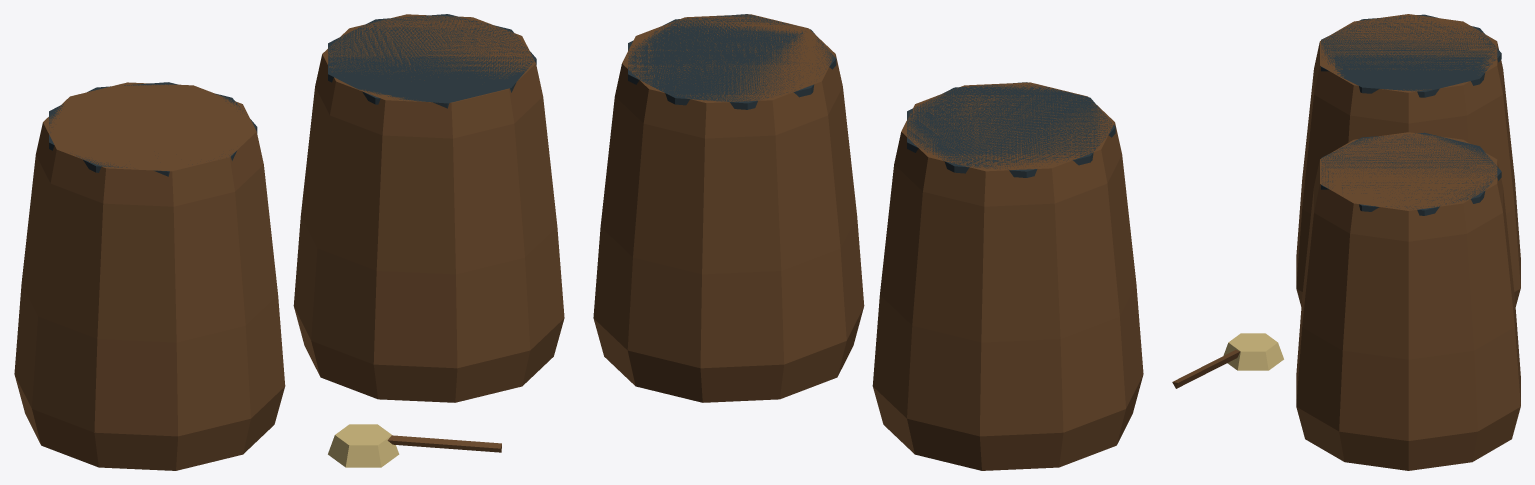
File: a2m_water_barrel.glb
3 renders of one model, left to right at view 1: azimuth 30°, elevation 25°; view 2: azimuth 150°, elevation 25°; view 3: azimuth 270°, elevation 25°, orthographic. The views are drawn at different scales.
Visible parts, largest first — view 1: a2m_water_barrel; view 2: a2m_water_barrel; view 3: a2m_water_barrel.
Boxes of the visible parts, <box> form: a2m_water_barrel: <box>14,14,564,470</box>; a2m_water_barrel: <box>593,14,1143,470</box>; a2m_water_barrel: <box>1172,14,1520,470</box>.
Bounding box in the file's own units: 1.66 × 0.9 × 1.12.
